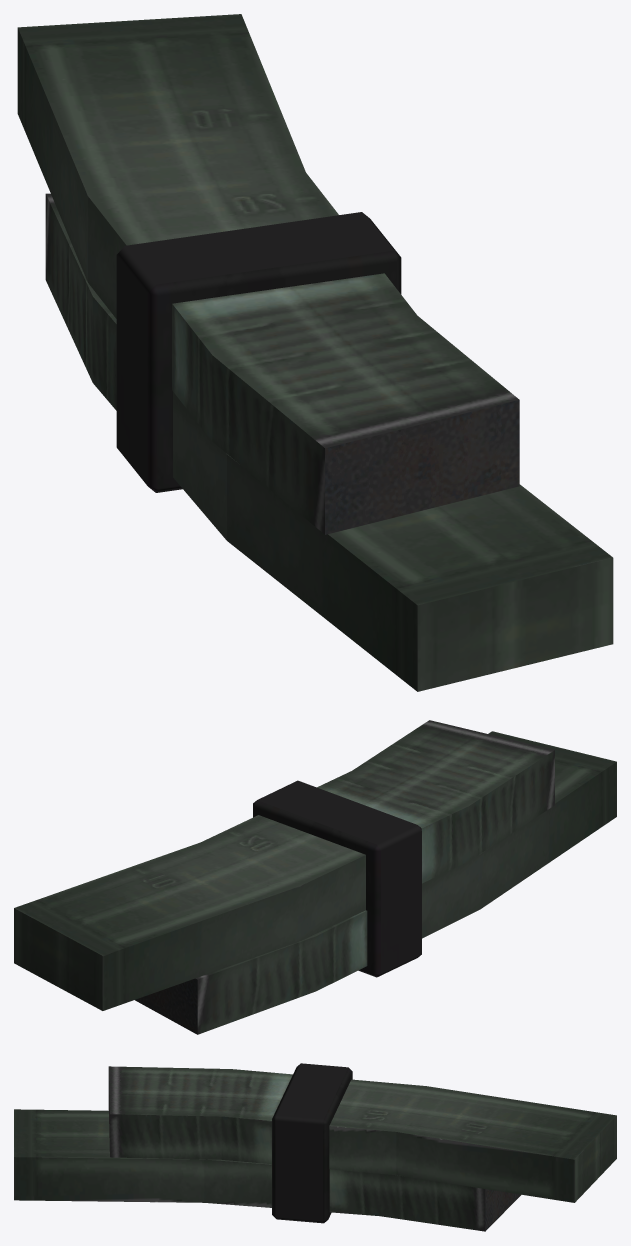
File: t6_attach_fastmag_chicom_world_LOD0.obj
3 renders of one model, top to bottom at view 1: azimuth 30°, elevation 25°; view 2: azimuth 150°, elevation 25°; view 3: azimuth 270°, elevation 25°, orthographic. The views are drawn at different scales.
Visible parts, largest first — view 1: mtl_t6_wpn_smg_chicom_camo1, mtl_t6_wpn_smg_chicom_camo2; view 2: mtl_t6_wpn_smg_chicom_camo1, mtl_t6_wpn_smg_chicom_camo2; view 3: mtl_t6_wpn_smg_chicom_camo1, mtl_t6_wpn_smg_chicom_camo2.
Part boxes in pixels (x1,y1,x2,y2): mtl_t6_wpn_smg_chicom_camo1: [17, 14, 613, 691]; mtl_t6_wpn_smg_chicom_camo2: [116, 212, 401, 492]; mtl_t6_wpn_smg_chicom_camo1: [14, 720, 616, 1034]; mtl_t6_wpn_smg_chicom_camo2: [253, 780, 421, 977]; mtl_t6_wpn_smg_chicom_camo1: [14, 1066, 616, 1231]; mtl_t6_wpn_smg_chicom_camo2: [272, 1063, 352, 1223].
Size of the model in its own units: 7.53 by 3.9 by 20.44.
